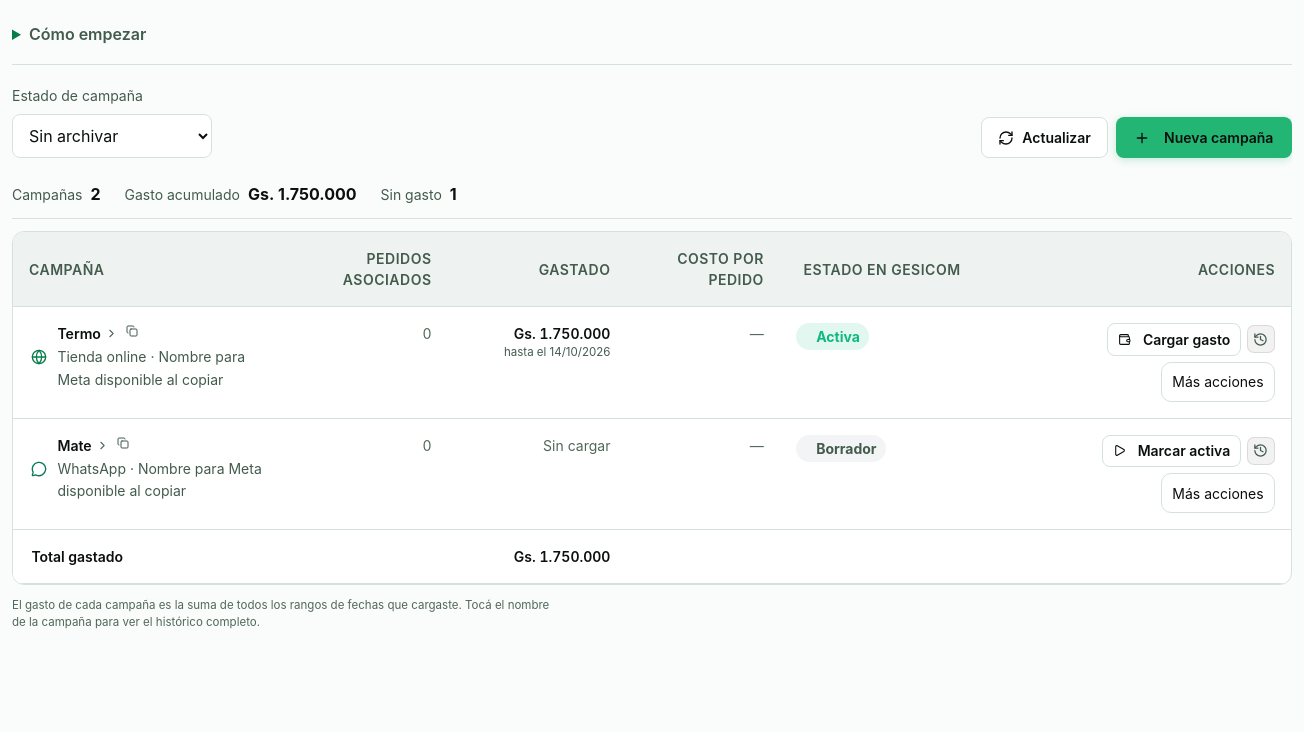
Test: Histórico de gasto › lista cada rango con su monto y el total de la campaña
The width and height of the screenshot is (1304, 732).
Click the button titled "Ver histórico de gasto" in the row of "Tienda online". click: (1261, 339)
box: [1247,325,1275,353]
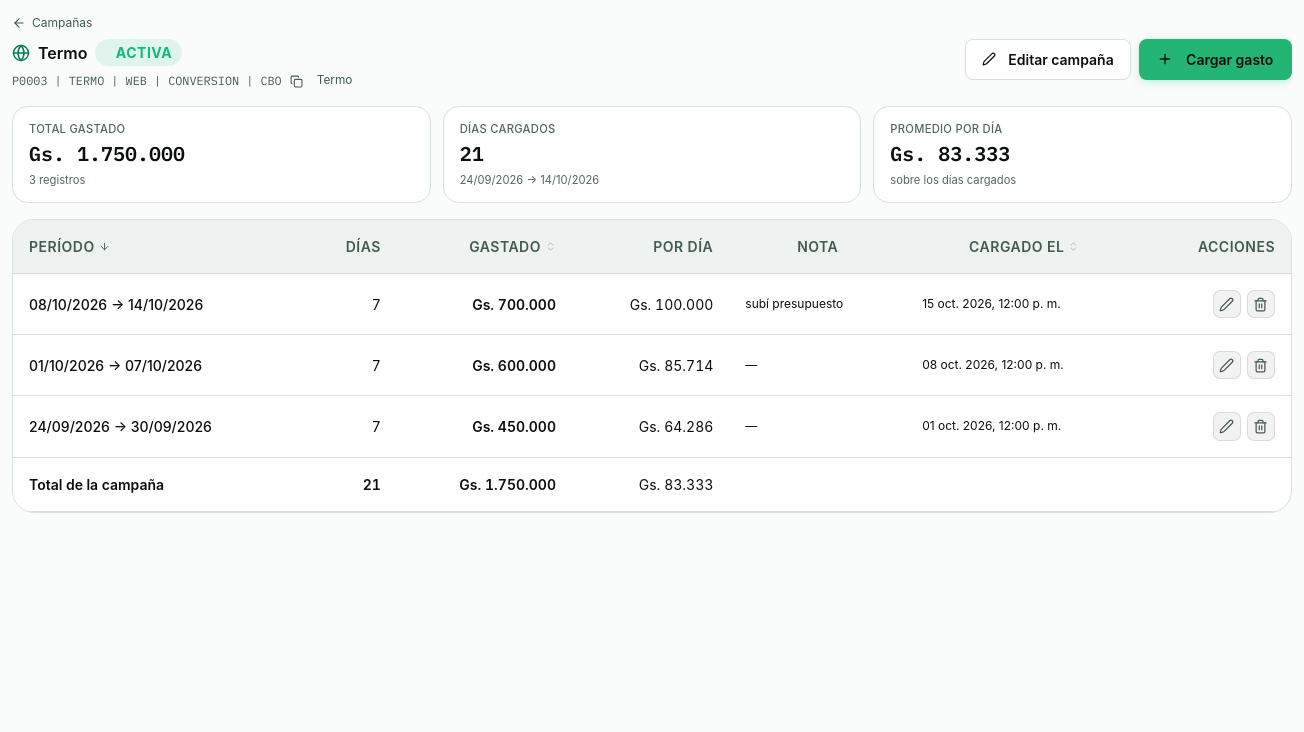
Now the text "08/10/2026 → 14/10/2026" is shown, box [13,273,306,335]
Now the text "subí presupuesto" is shown, box [729,273,906,335]
Now the text "21" is shown, box [306,457,397,511]
